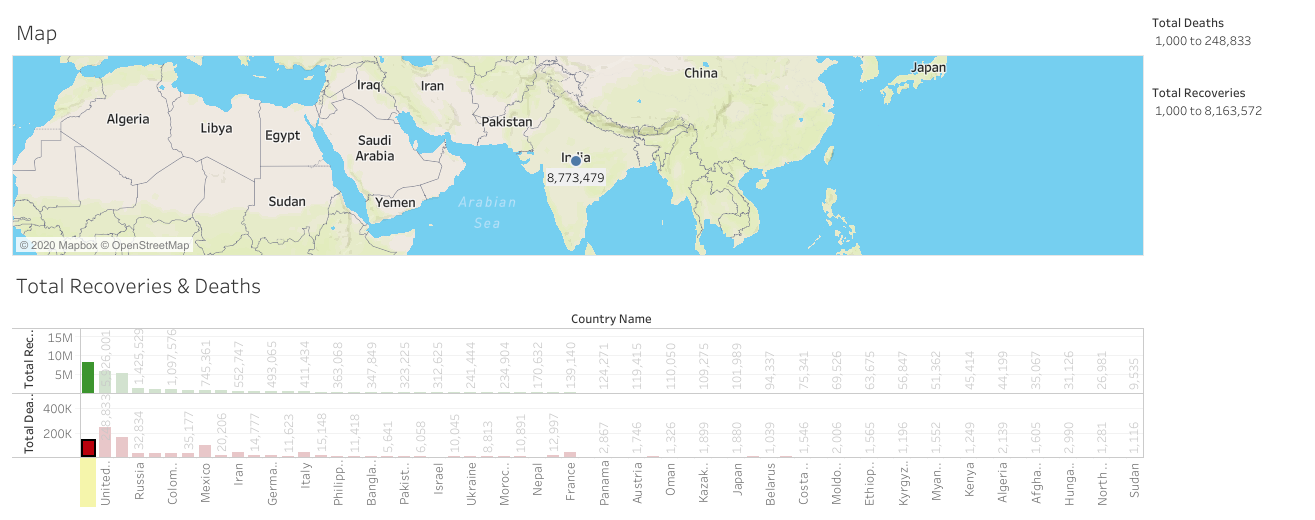

This screenshot's page, from the dashboard's own definition file:
{"tool":"tableau","page":{"name":"Dashboard 1","canvas":[1000,1000],"units":"permille","ordinal":0},"visuals":[{"type":"worksheet","box":[0,0,1000,1000]},{"type":"worksheet","param":"vert","box":[6.7,13.5,986.6,973]},{"type":"worksheet","param":"vert","box":[6.7,13.5,986.6,973]},{"type":"worksheet","param":"vert","box":[6.7,13.5,986.6,973]},{"type":"worksheet","param":"horz","box":[6.7,13.5,986.6,973]},{"type":"worksheet","box":[6.7,13.5,852.7,973]},{"type":"worksheet","param":"vert","box":[6.7,13.5,852.7,486.5]},{"type":"worksheet","param":"vert","box":[6.7,13.5,852.7,486.5]},{"type":"worksheet","param":"vert","box":[6.7,13.5,852.7,486.5]},{"type":"worksheet","title":"Sheet 1","mark":"Automatic","box":[6.7,13.5,852.7,486.5]},{"type":"worksheet","param":"vert","box":[859.4,13.5,133.9,973]},{"type":"worksheet","title":"Sheet 2","mark":"Automatic","rows":["Total Recoveries","Total Deaths"],"cols":["Country Name"],"param":"[federated.1b158l910de57p133tdfr1gfvhqa].[sum:Total Deaths:qk]","box":[859.4,13.5,133.9,116.5]},{"type":"worksheet","title":"Sheet 2","mark":"Automatic","rows":["Total Recoveries","Total Deaths"],"cols":["Country Name"],"param":"[federated.1b158l910de57p133tdfr1gfvhqa].[sum:Total Recoveries:qk]","box":[859.4,130.1,133.9,116.5]},{"type":"worksheet","param":"vert","box":[6.7,500,852.7,486.5]},{"type":"worksheet","title":"Sheet 2","mark":"Automatic","rows":["Total Recoveries","Total Deaths"],"cols":["Country Name"],"box":[6.7,500,852.7,486.5]}]}

Visuals, with their boxes on the dashboard's canvas, which has no fixed pixel size, in thousandths of its width and height (x1, y1, x2, y2). These are canvas units, not pixel positions in the 1315x520 screenshot, which may show the page scaled, cropped or inside an application window:
worksheet: region(0, 0, 1000, 1000)
worksheet: region(7, 14, 993, 986)
worksheet: region(7, 14, 993, 986)
worksheet: region(7, 14, 993, 986)
worksheet: region(7, 14, 993, 986)
worksheet: region(7, 14, 859, 986)
worksheet: region(7, 14, 859, 500)
worksheet: region(7, 14, 859, 500)
worksheet: region(7, 14, 859, 500)
"Sheet 1" worksheet: region(7, 14, 859, 500)
worksheet: region(859, 14, 993, 986)
"Sheet 2" worksheet: region(859, 14, 993, 130)
"Sheet 2" worksheet: region(859, 130, 993, 247)
worksheet: region(7, 500, 859, 986)
"Sheet 2" worksheet: region(7, 500, 859, 986)
